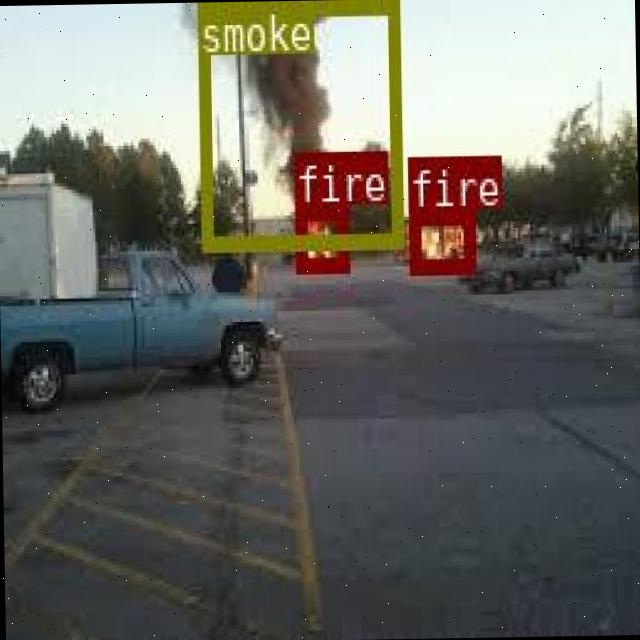fire: (406, 208, 471, 272), (292, 203, 347, 270)
smoke: (195, 0, 399, 249)
